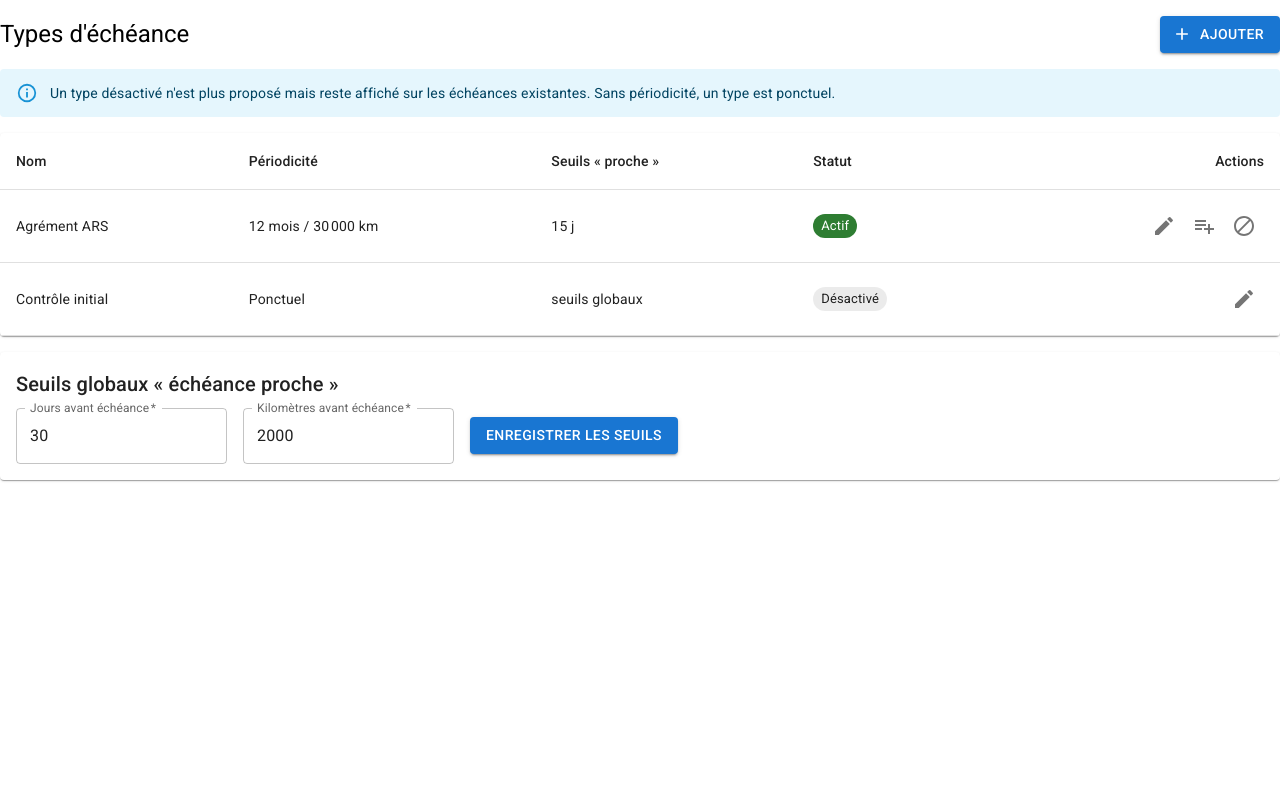
Test: DeadlineTypesPage : ajout à des véhicules › propose l'ajout depuis un type actif périodique, sans date, et affiche les véhicules en erreur
Expected: the text "Agrément ARS" is shown, x1=0 y1=189 x2=233 y2=262
Click the button named "Ajouter Agrément ARS à des véhicules". click: click(1204, 226)
box: x1=1184 y1=206 x2=1224 y2=246
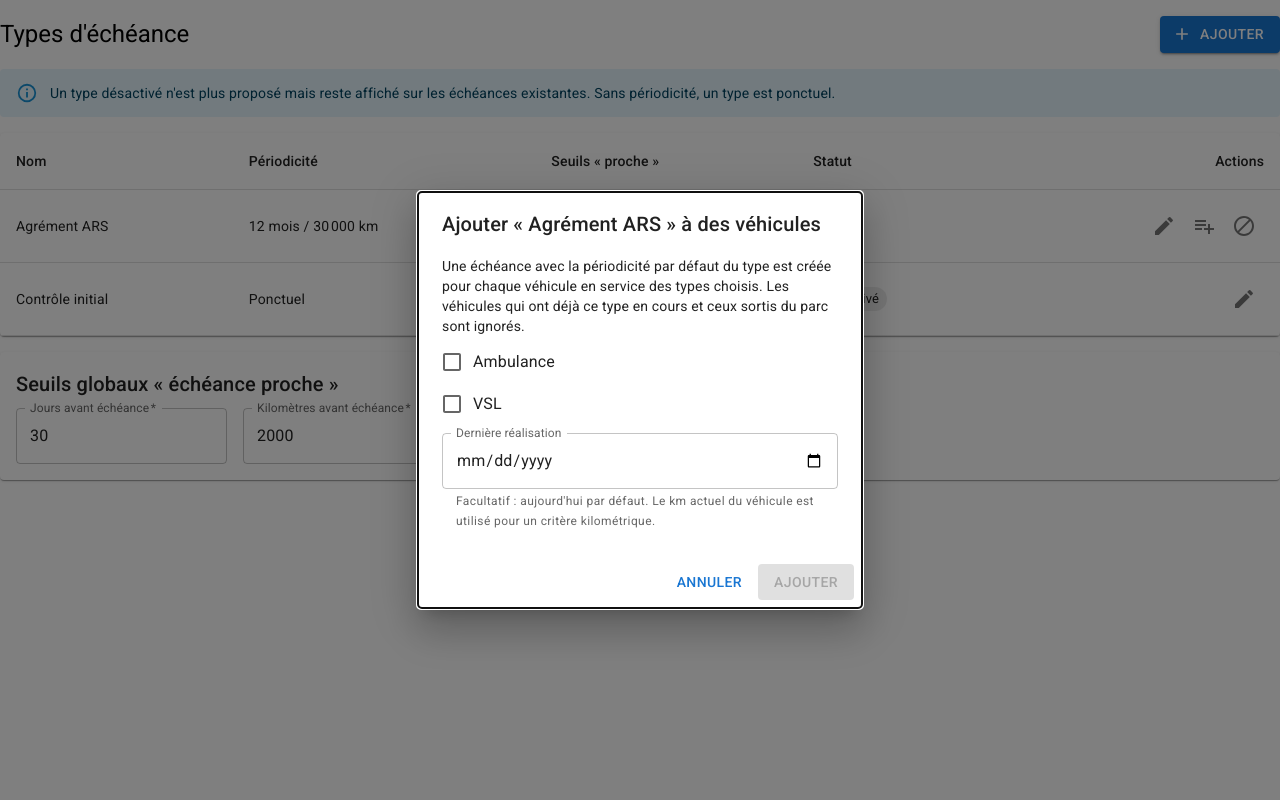
Click the checkbox labelled "Ambulance". click: click(497, 362)
box: x1=440 y1=350 x2=555 y2=374
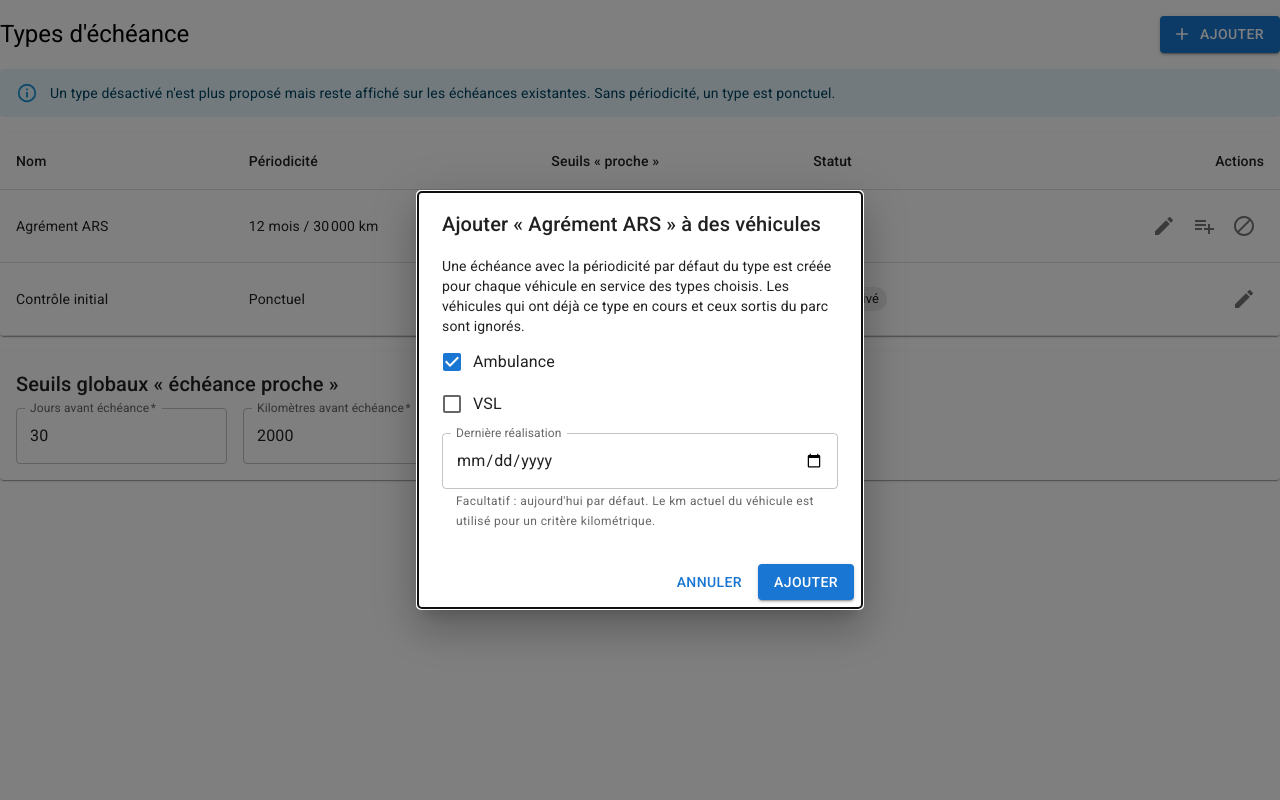
Click the button "Ajouter". click: click(806, 582)
box: x1=758 y1=564 x2=854 y2=600
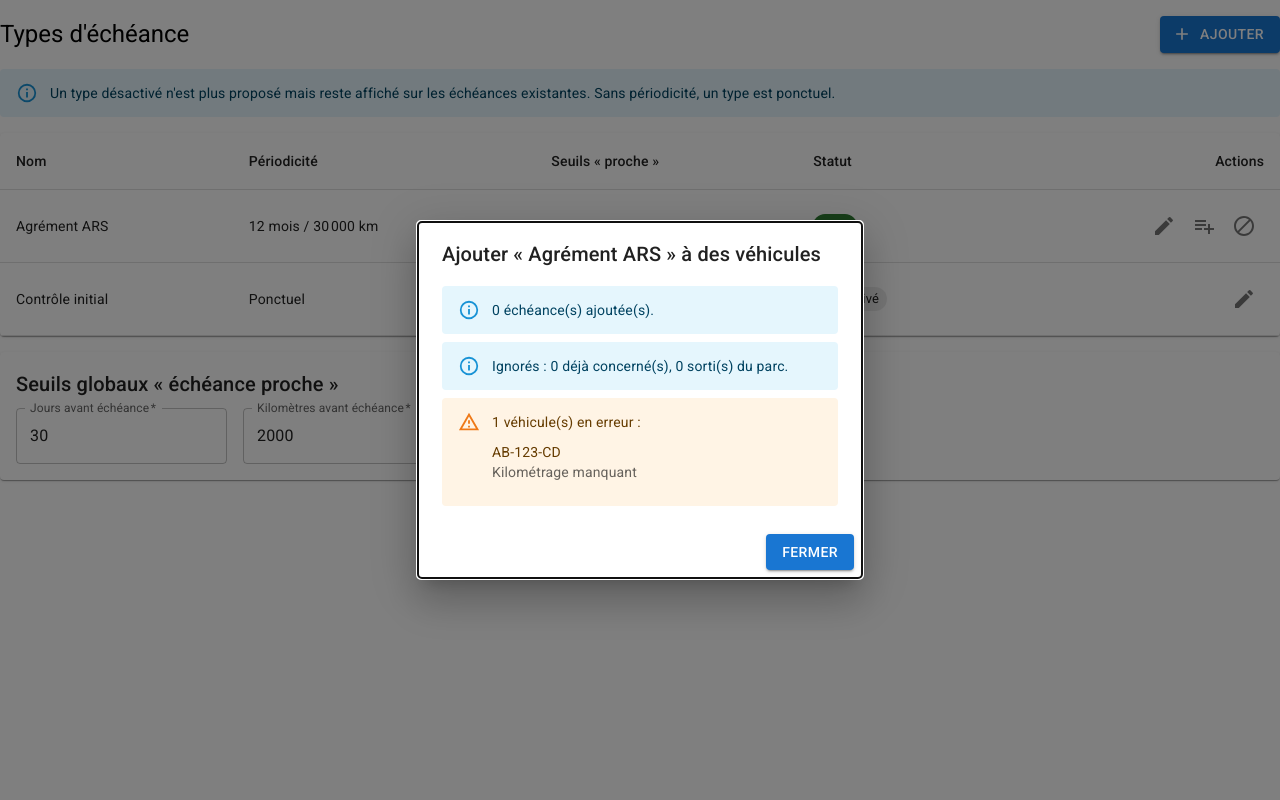
Expected: the text "AB-123-CD" is shown, x1=492 y1=444 x2=561 y2=460
Expected: the text "Kilométrage manquant" is shown, x1=492 y1=462 x2=641 y2=482
